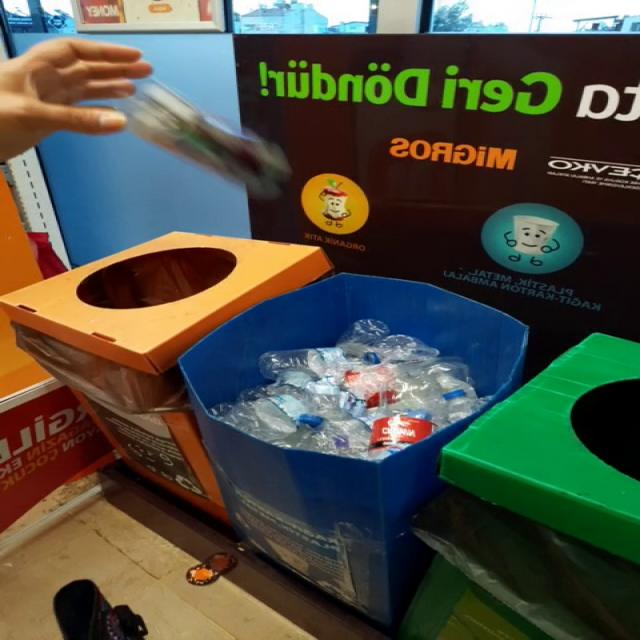bin: (1, 232, 528, 627)
metal: (115, 79, 291, 199)
